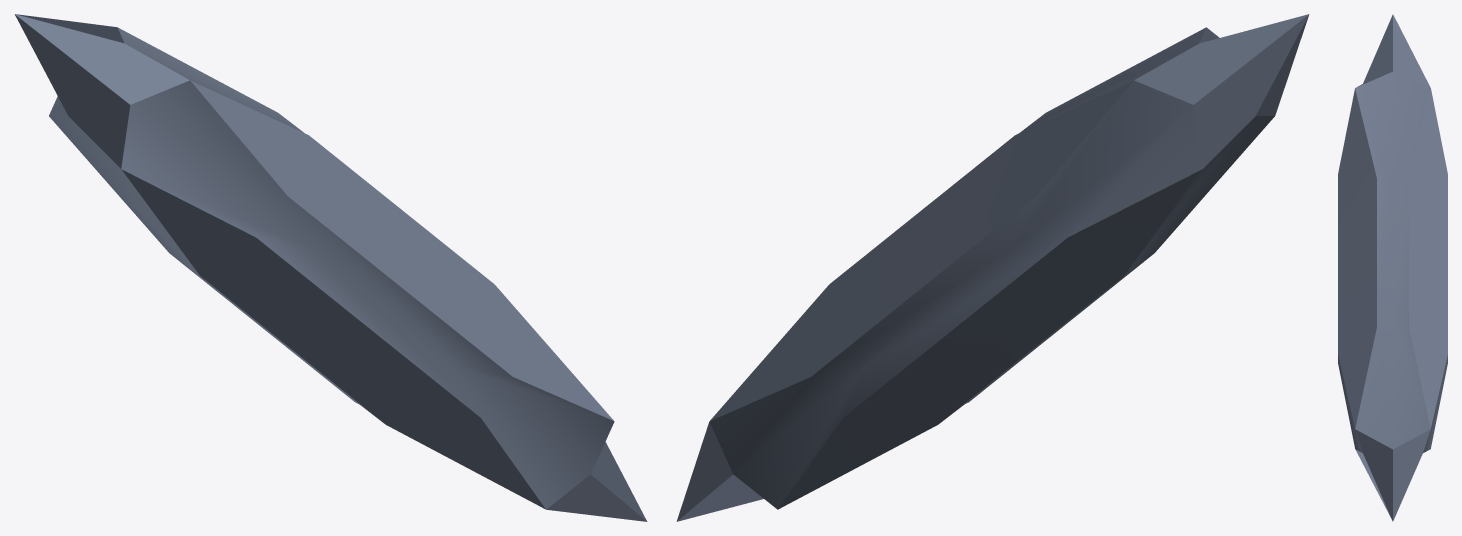
The model's file is speedometer.fbx.
3 renders of one model, left to right at view 1: azimuth 30°, elevation 25°; view 2: azimuth 150°, elevation 25°; view 3: azimuth 270°, elevation 25°, orthographic. The views are drawn at different scales.
Parts seen in each view (by area): view 1: Speedometer; view 2: Speedometer; view 3: Speedometer.
Part boxes in pixels (x1,y1,x2,y2): Speedometer: (14, 14, 647, 521); Speedometer: (676, 14, 1309, 521); Speedometer: (1338, 14, 1447, 521).
Bounding box in the file's own units: 2.27 × 2.27 × 0.6532.
